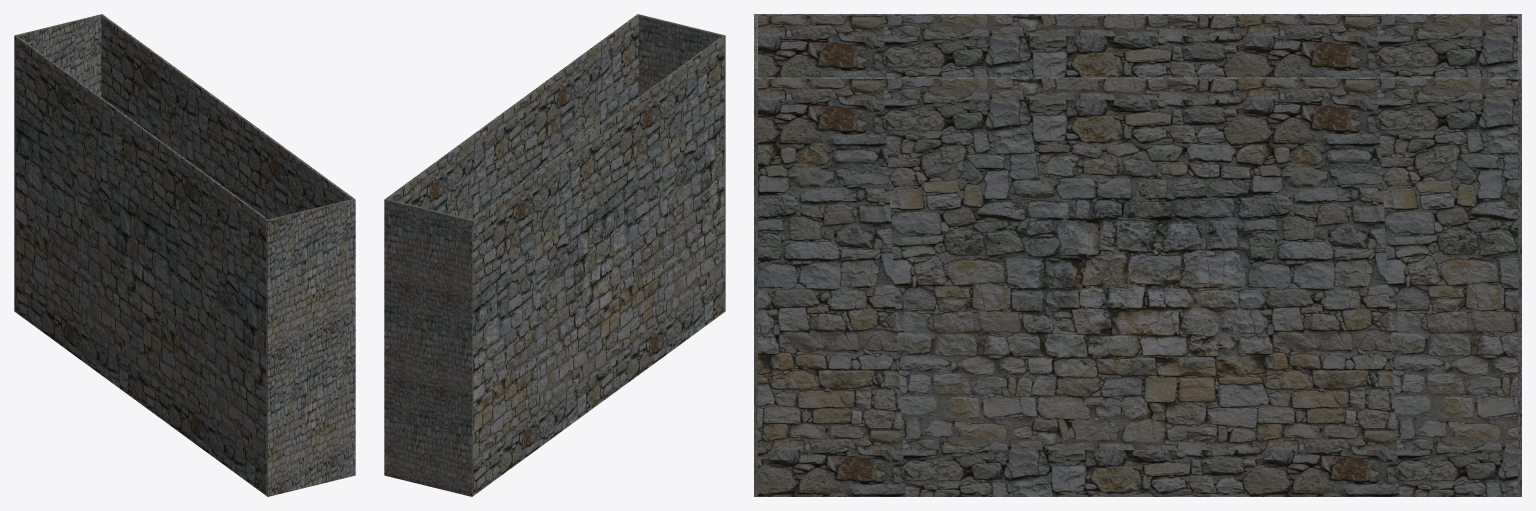
The model's file is 10x2construction.glb.
The picture shows the model from 3 angles, left to right: view 1: azimuth 30°, elevation 25°; view 2: azimuth 150°, elevation 25°; view 3: azimuth 270°, elevation 25°; orthographic projection. The views are drawn at different scales.
Visible parts, largest first — view 1: Cube.002; view 2: Cube.002; view 3: Cube.002.
Part boxes in pixels (left/top/right/bottom): Cube.002: left=14, top=14, right=355, bottom=496; Cube.002: left=384, top=14, right=725, bottom=496; Cube.002: left=754, top=14, right=1521, bottom=496.
Bounding box in the file's own units: 2 × 6.01 × 10.01.
Materials: 1 (1 with a texture image).
